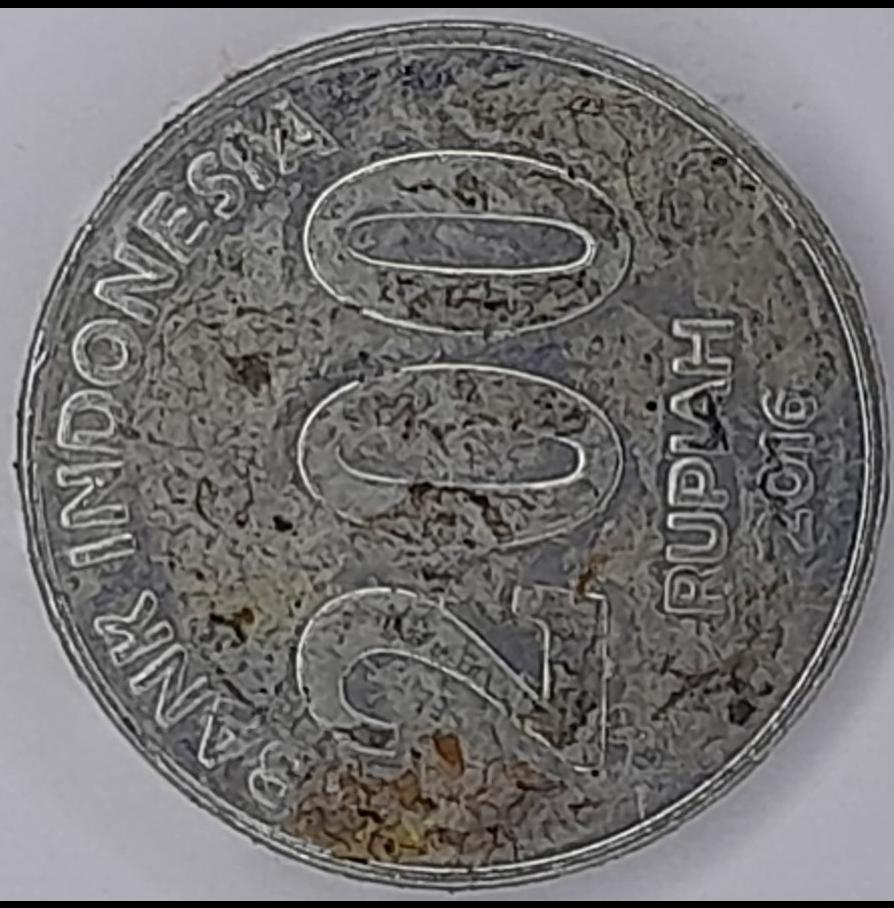coin_200_e2016: (0, 16, 894, 908)
